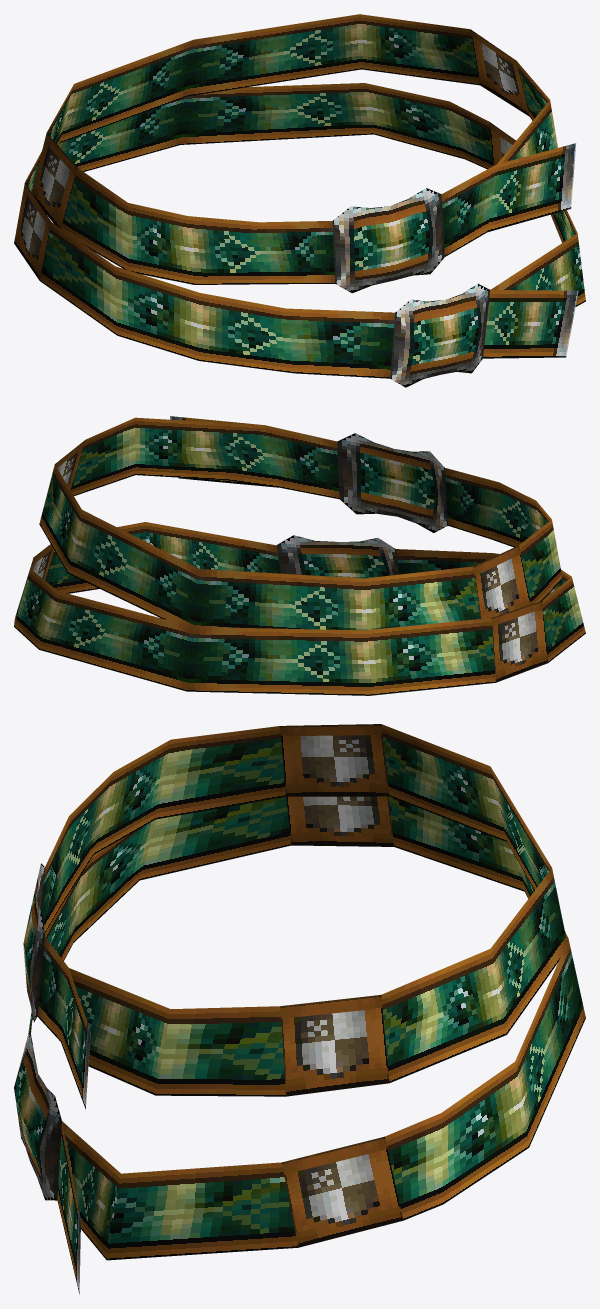
File: m_waist238.obj
The picture shows the model from 3 angles, top to bottom: view 1: azimuth 30°, elevation 25°; view 2: azimuth 150°, elevation 25°; view 3: azimuth 270°, elevation 25°; orthographic projection. The views are drawn at different scales.
Parts seen in each view (by area): view 1: mesh00, mesh01; view 2: mesh00, mesh01; view 3: mesh00, mesh01.
Part boxes in pixels (x1=…): mesh00: x1=14, y1=14, x2=585, y2=387; mesh01: x1=21, y1=42, x2=518, y2=257; mesh00: x1=14, y1=416, x2=585, y2=695; mesh01: x1=32, y1=452, x2=539, y2=664; mesh00: x1=14, y1=724, x2=585, y2=1294; mesh01: x1=297, y1=735, x2=382, y2=1225.
Size of the model in its own units: 38.33 by 17.19 by 28.33.
2 materials, 2 textured.
